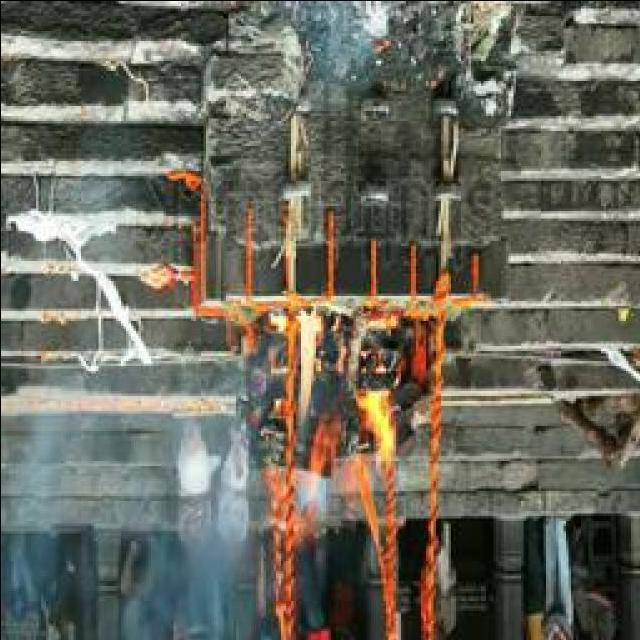Fire: (287, 307, 400, 540)
